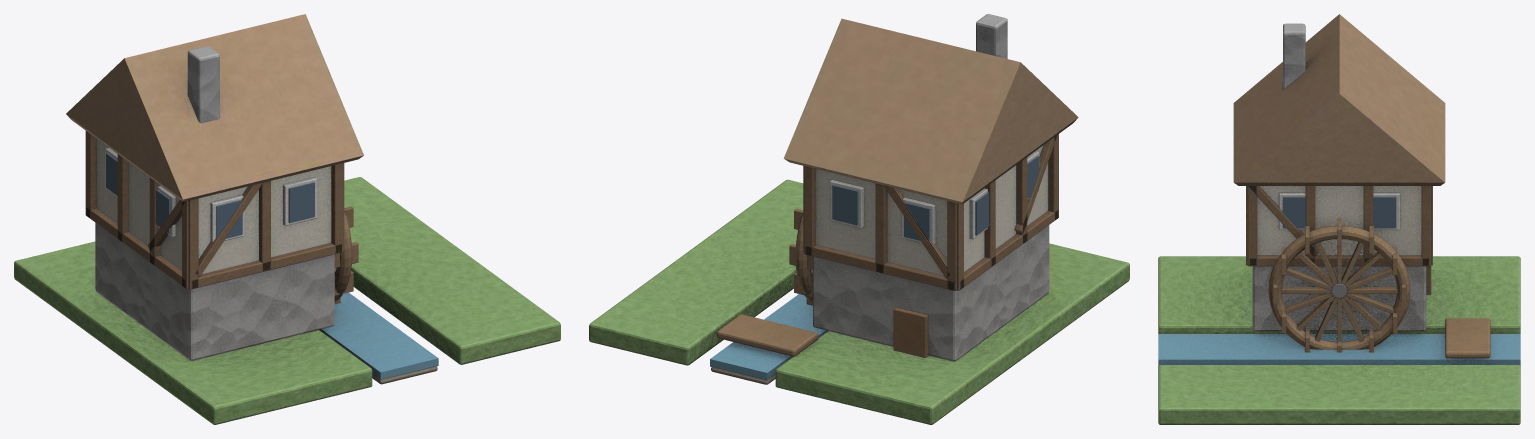
Rendered from wassermuehle3d.glb.
3 renders of one model, left to right at view 1: azimuth 30°, elevation 25°; view 2: azimuth 150°, elevation 25°; view 3: azimuth 270°, elevation 25°, orthographic. The views are drawn at different scales.
Visible parts, largest first — view 1: wassermuehle3d, wassermuehle3d_details; view 2: wassermuehle3d, wassermuehle3d_details; view 3: wassermuehle3d, wassermuehle3d_details.
Boxes of the visible parts, x1,y1,x2,y2 form: wassermuehle3d: (14,14,560,424); wassermuehle3d_details: (106,153,314,238); wassermuehle3d: (589,14,1129,424); wassermuehle3d_details: (832,156,1038,240); wassermuehle3d: (1158,14,1520,424); wassermuehle3d_details: (1283,197,1395,297).
Size of the model in its own units: 0.96 by 0.8 by 0.96.
3 materials, 1 textured.
